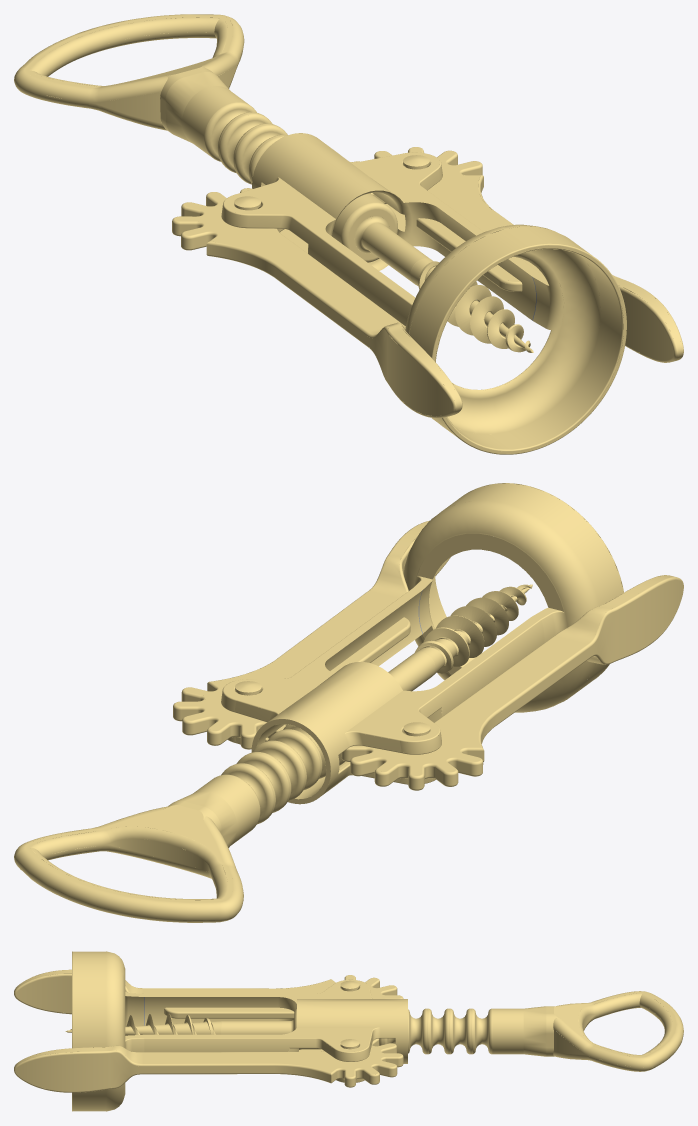
The model's file is Assem1.glb.
3 renders of one model, top to bottom at view 1: azimuth 30°, elevation 25°; view 2: azimuth 150°, elevation 25°; view 3: azimuth 270°, elevation 25°, orthographic. The views are drawn at different scales.
Visible parts, largest first — view 1: Assem1.IGS (×4); view 2: Assem1.IGS (×4); view 3: Assem1.IGS (×4).
Part boxes in pixels (box(x1,y1,x2,y2)): Assem1.IGS (×4): box(14, 14, 683, 454); Assem1.IGS (×4): box(14, 483, 683, 922); Assem1.IGS (×4): box(14, 951, 683, 1111).
Bounding box in the file's own units: 0.0641 × 0.042 × 0.1754.
